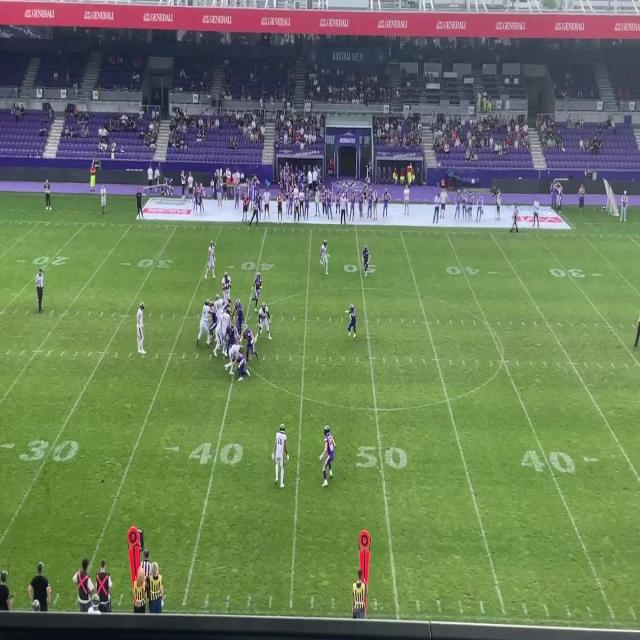3: (20, 435, 50, 465)
4: (520, 446, 548, 479), (188, 439, 214, 469)
5: (354, 442, 378, 473)
american-football-players: (272, 424, 290, 490), (320, 425, 338, 488), (256, 302, 276, 347), (241, 327, 262, 363), (136, 301, 147, 355), (224, 345, 245, 373), (229, 354, 249, 383), (198, 301, 211, 345), (204, 241, 217, 280), (226, 323, 244, 350), (231, 300, 247, 329), (318, 240, 330, 278), (220, 310, 232, 347), (346, 304, 358, 337), (360, 243, 371, 277), (214, 322, 224, 358), (252, 271, 262, 305), (210, 300, 217, 343), (215, 296, 226, 322), (222, 271, 231, 302)
